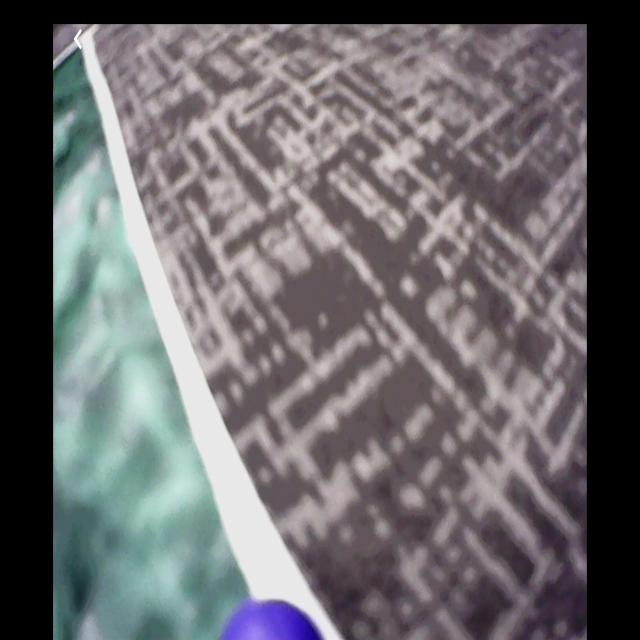ball: (214, 598, 332, 640)
